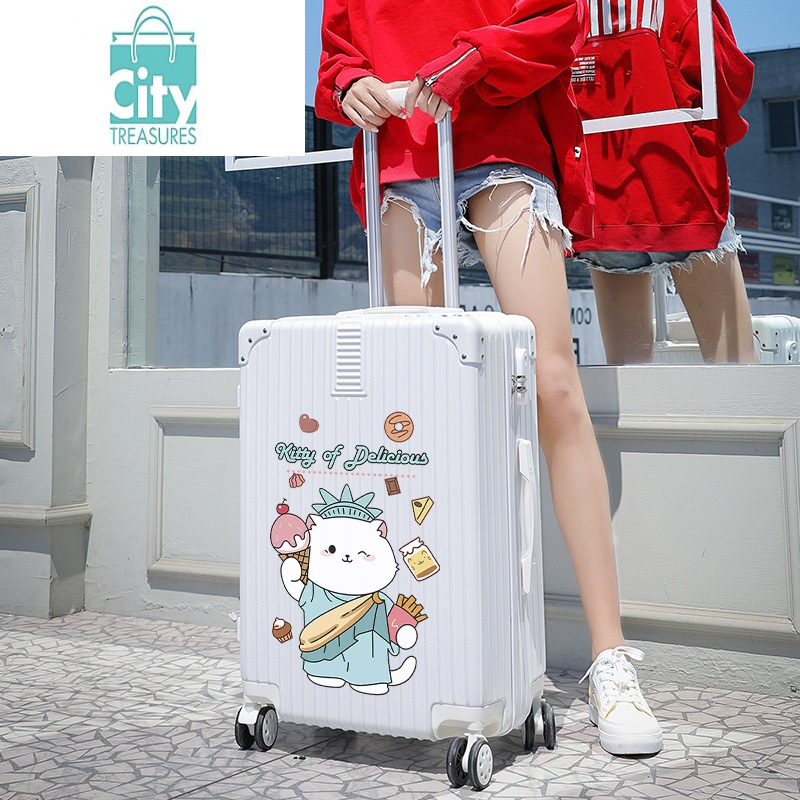box: (239, 313, 545, 745)
lock: (512, 347, 530, 404)
wheel: (446, 737, 493, 792), (234, 705, 278, 752), (520, 702, 557, 752)
